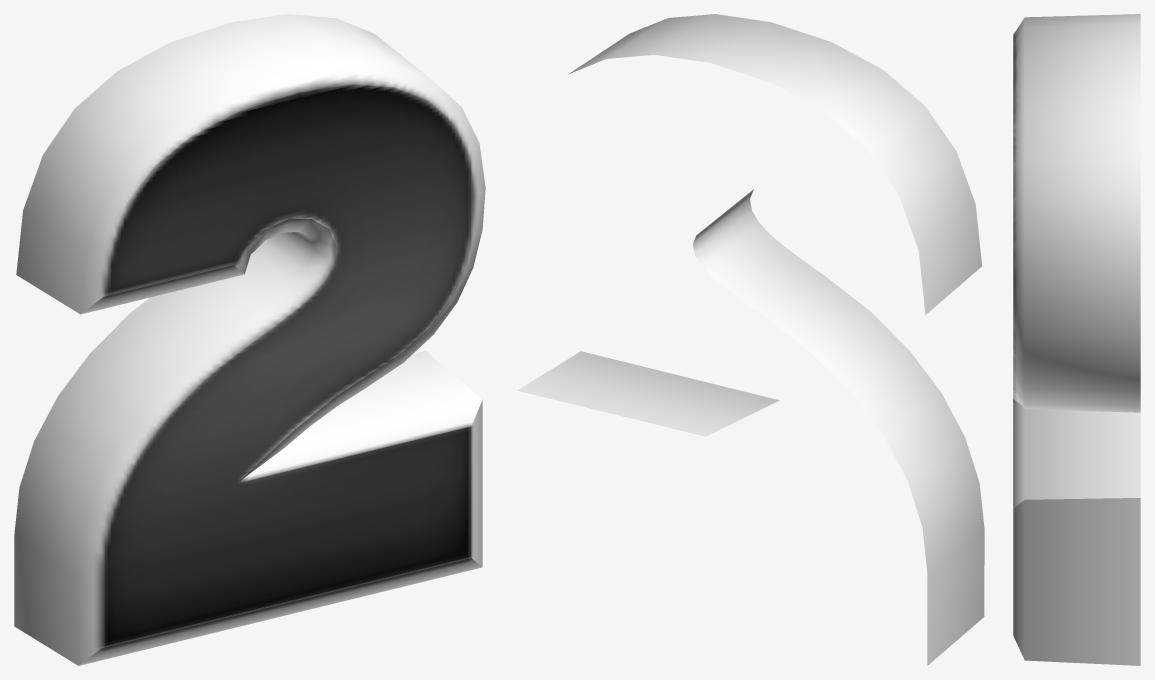
File: bbl_score_model__score_2a.glb
3 views of the same model, side by side, from view 1: azimuth 30°, elevation 25°; view 2: azimuth 150°, elevation 25°; view 3: azimuth 270°, elevation 25° (orthographic). The views are drawn at different scales.
Parts seen in each view (by area): view 1: polygon0, polygon1; view 2: polygon1; view 3: polygon1.
Part boxes in pixels (box(x1,y1,x2,y2)): polygon0: box(101, 84, 474, 648); polygon1: box(14, 14, 485, 665); polygon1: box(517, 14, 984, 665); polygon1: box(1013, 14, 1140, 665).
Size of the model in its own units: 3.95 by 5.02 by 1.1.
2 materials, 2 textured.
